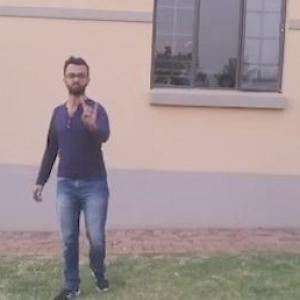takeoff-hand: (77, 92, 110, 128)
